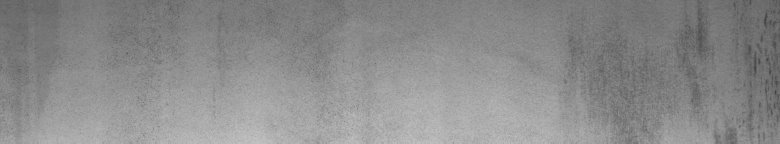ka: (616, 9, 776, 136)
